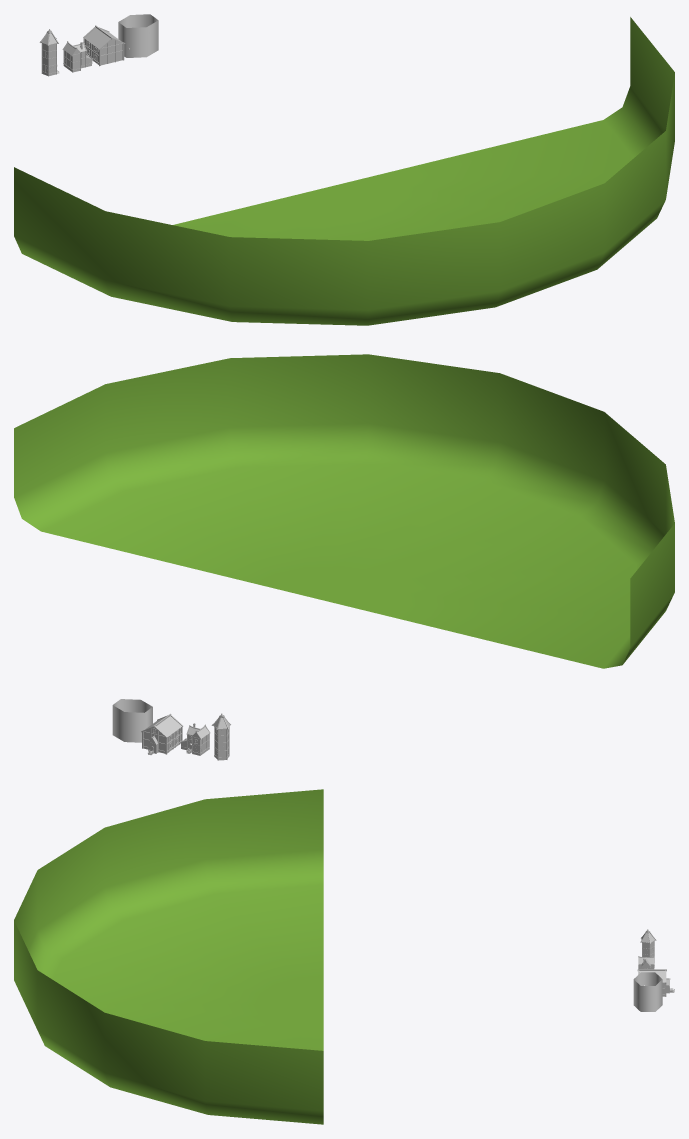
File: assets_t1_a2.fbx
3 views of the same model, one above another, from view 1: azimuth 30°, elevation 25°; view 2: azimuth 150°, elevation 25°; view 3: azimuth 270°, elevation 25° (orthographic). The views are drawn at different scales.
Parts seen in each view (by area): view 1: Ground, Godray, Asset_002, Asset_004, Asset_003; view 2: Ground, Godray, Asset_002, Asset_003, Asset_004; view 3: Ground, Godray.
Part boxes in pixels (<box>): Ground: <box>14,17,674,325</box>; Godray: <box>118,14,158,57</box>; Asset_002: <box>83,25,125,66</box>; Asset_004: <box>39,29,59,76</box>; Asset_003: <box>62,41,92,72</box>; Ground: <box>14,354,674,668</box>; Godray: <box>112,699,152,742</box>; Asset_002: <box>141,713,182,754</box>; Asset_003: <box>180,723,210,755</box>; Asset_004: <box>211,713,230,760</box>; Ground: <box>14,789,323,1124</box>; Godray: <box>633,972,662,1011</box>.
Size of the model in its own units: 162 by 24.25 by 173.
